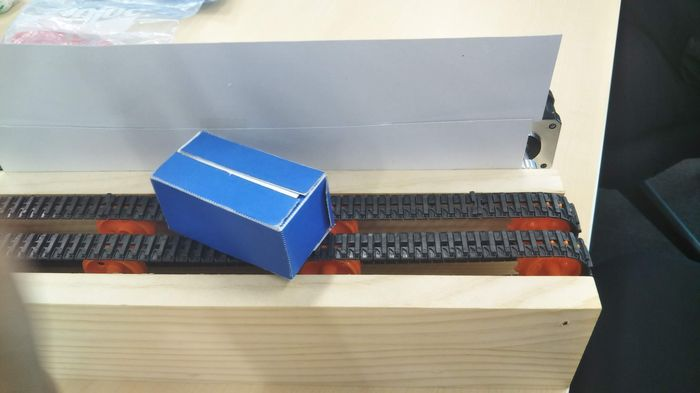box3: (148, 124, 337, 281)
